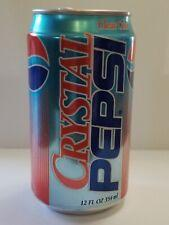metal: (28, 10, 135, 214)
